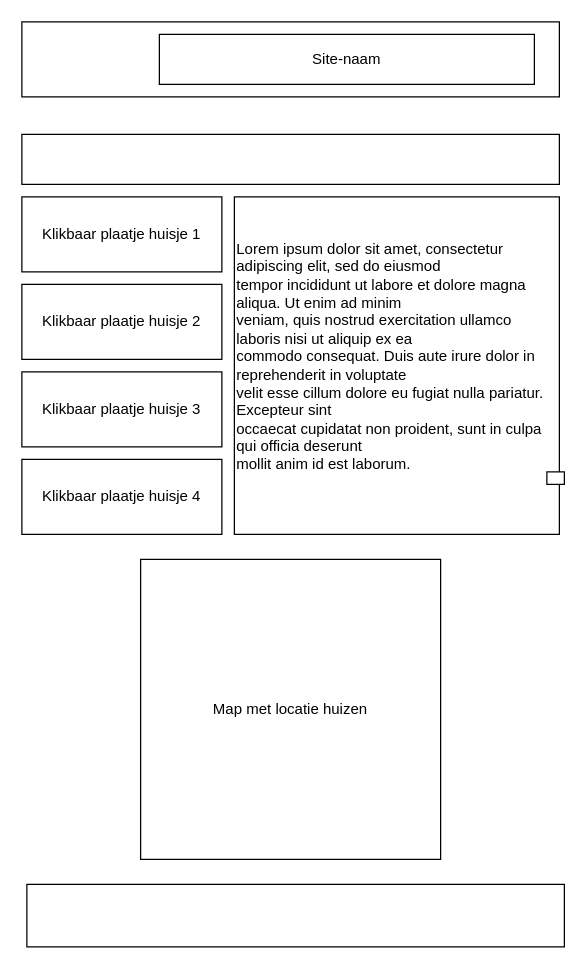
Some shapes in this 586 by 969 pixel diagram are drawn without their labels. Here are the shapes that lost their labels. From the top down, the box of each, then its label:
(21, 21, 559, 97): Sfeerplaatje
(21, 133, 559, 184): filter balk om dingen te selecteren
(26, 883, 564, 947): prijs huis + betaling
